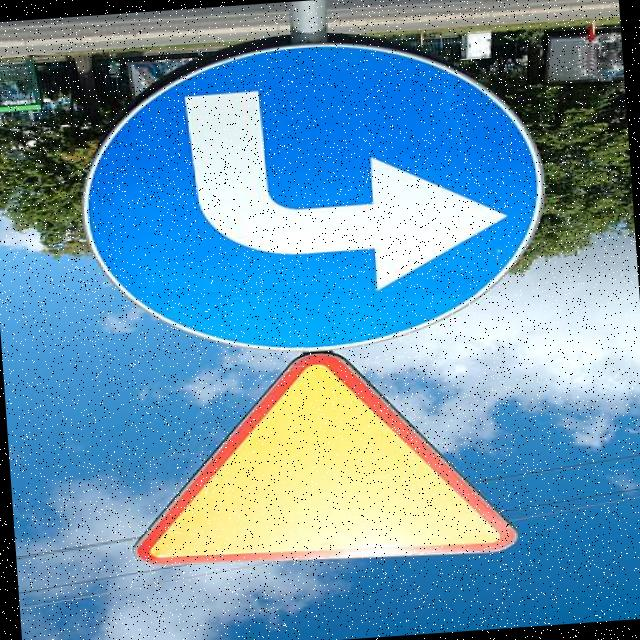compulsory_keep_right: (68, 10, 576, 371)
